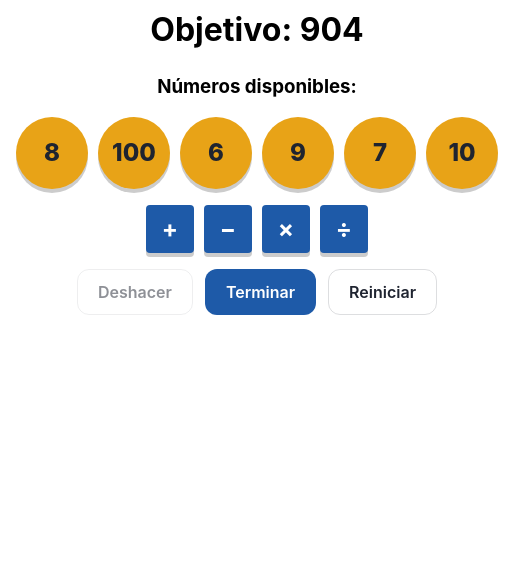
Test: NumbersGame › can play again after finishing
The image size is (515, 576).
Click the button "Terminar": click(260, 292) [205,269,316,315]
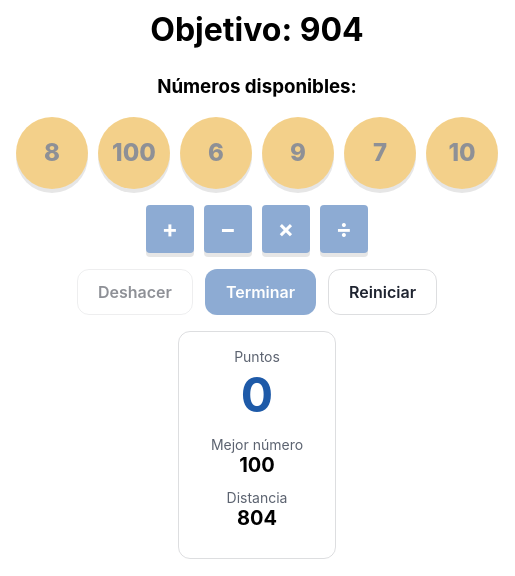
Click the button "Reiniciar": click(383, 292) [328,269,437,315]
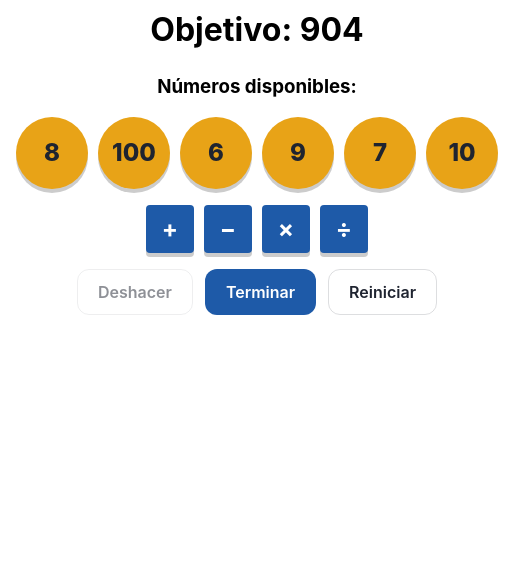
Result: the element "Resultado" is gone
